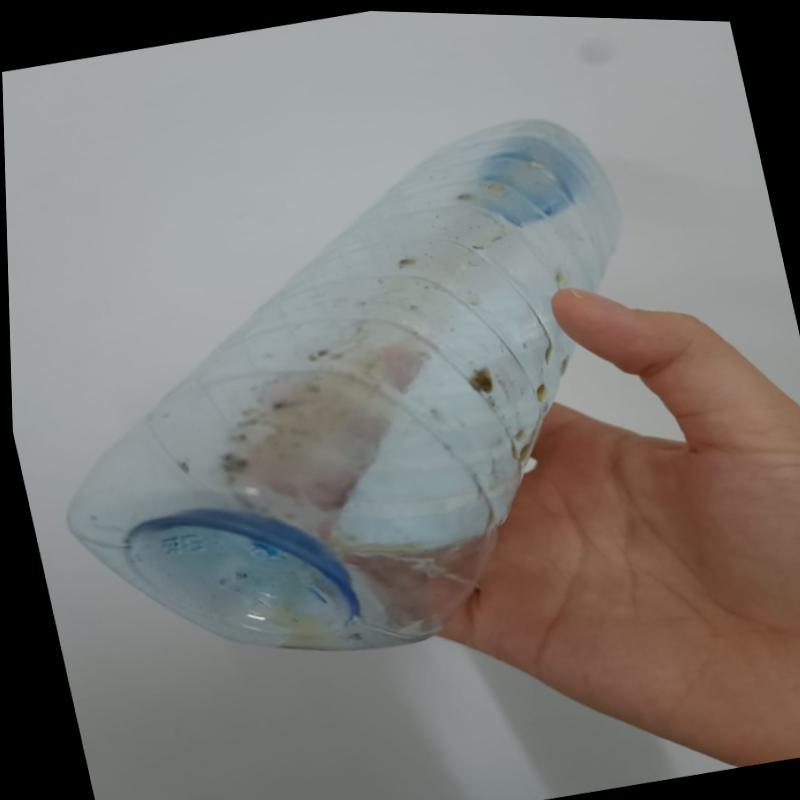botella: (2, 80, 702, 717)
